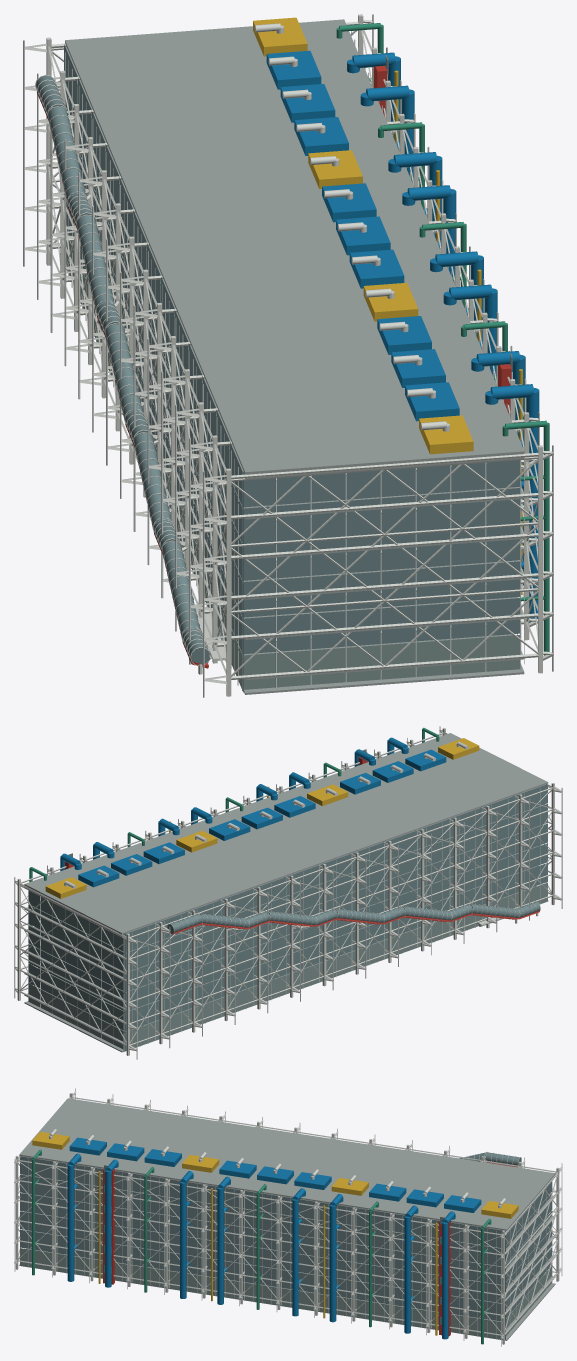
File: centre-pompidou-near.glb
3 renders of one model, top to bottom at view 1: azimuth 30°, elevation 25°; view 2: azimuth 150°, elevation 25°; view 3: azimuth 270°, elevation 25°, orthographic. The views are drawn at different scales.
Parts seen in each view (by area): view 1: centre-pompidou-0-roof, centre-pompidou-0-frame, centre-pompidou-0-glass, centre-pompidou-0-blue, centre-pompidou-0-glow, centre-pompidou-0-yellow, centre-pompidou-0-green, centre-pompidou-0-red; view 2: centre-pompidou-0-glass, centre-pompidou-0-roof, centre-pompidou-0-frame, centre-pompidou-0-glow, centre-pompidou-0-blue, centre-pompidou-0-yellow, centre-pompidou-0-red, centre-pompidou-0-green; view 3: centre-pompidou-0-glass, centre-pompidou-0-roof, centre-pompidou-0-frame, centre-pompidou-0-blue, centre-pompidou-0-glow, centre-pompidou-0-yellow, centre-pompidou-0-green, centre-pompidou-0-red.
Boxes of the visible parts, x1=… form: centre-pompidou-0-roof: x1=65, y1=19, x2=524, y2=694; centre-pompidou-0-frame: x1=23, y1=14, x2=553, y2=697; centre-pompidou-0-glass: x1=36, y1=44, x2=519, y2=664; centre-pompidou-0-blue: x1=266, y1=50, x2=539, y2=622; centre-pompidou-0-glow: x1=66, y1=241, x2=519, y2=692; centre-pompidou-0-yellow: x1=253, y1=17, x2=522, y2=594; centre-pompidou-0-green: x1=336, y1=23, x2=549, y2=655; centre-pompidou-0-red: x1=37, y1=65, x2=511, y2=668; centre-pompidou-0-glass: x1=28, y1=749, x2=547, y2=1032; centre-pompidou-0-roof: x1=24, y1=733, x2=548, y2=1052; centre-pompidou-0-frame: x1=14, y1=726, x2=562, y2=1059; centre-pompidou-0-glow: x1=28, y1=882, x2=547, y2=1051; centre-pompidou-0-blue: x1=60, y1=737, x2=446, y2=887; centre-pompidou-0-yellow: x1=45, y1=738, x2=479, y2=898; centre-pompidou-0-red: x1=65, y1=757, x2=539, y2=934; centre-pompidou-0-green: x1=29, y1=727, x2=439, y2=984; centre-pompidou-0-glass: x1=20, y1=1152, x2=552, y2=1324; centre-pompidou-0-roof: x1=19, y1=1098, x2=555, y2=1340; centre-pompidou-0-frame: x1=14, y1=1088, x2=562, y2=1346; centre-pompidou-0-blue: x1=67, y1=1137, x2=481, y2=1339; centre-pompidou-0-glow: x1=20, y1=1248, x2=552, y2=1340; centre-pompidou-0-yellow: x1=32, y1=1132, x2=518, y2=1335; centre-pompidou-0-green: x1=32, y1=1149, x2=491, y2=1344; centre-pompidou-0-red: x1=103, y1=1162, x2=517, y2=1336.
Size of the model in its own units: 109 by 42 by 173.
